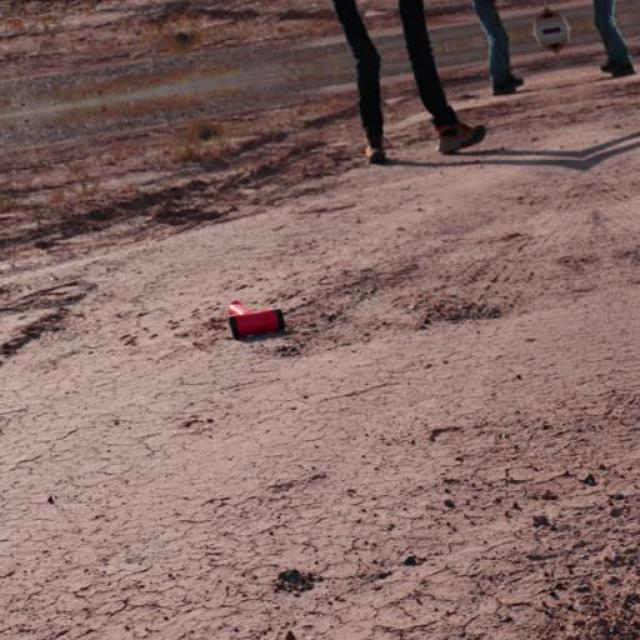mallet: (228, 298, 288, 340)
